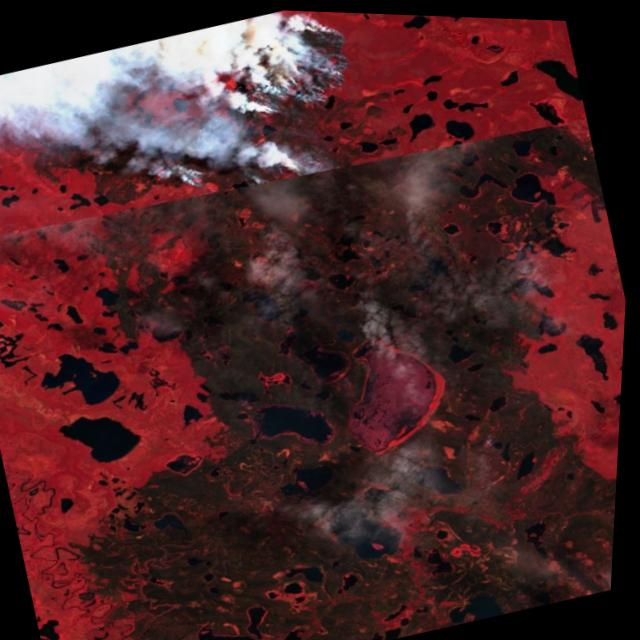fire: (123, 4, 397, 221)
